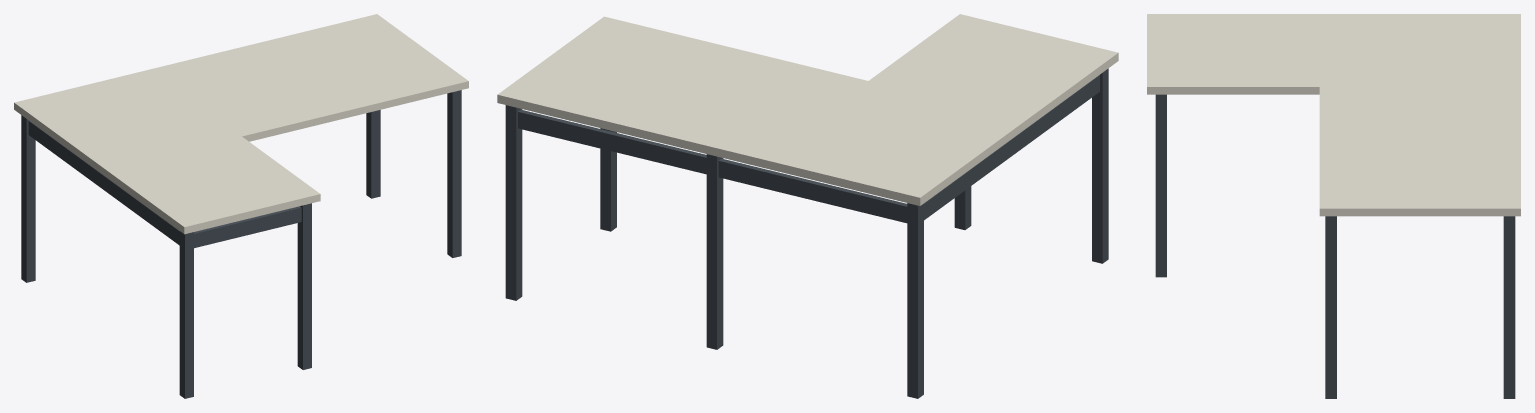
The model's file is GO_Desk_L_01.glb.
3 views of the same model, side by side, from view 1: azimuth 30°, elevation 25°; view 2: azimuth 150°, elevation 25°; view 3: azimuth 270°, elevation 25° (orthographic). The views are drawn at different scales.
Parts seen in each view (by area): view 1: GO_Desk_L_01; view 2: GO_Desk_L_01; view 3: GO_Desk_L_01.
Boxes of the visible parts, box(x1,y1,x2,y2) form: GO_Desk_L_01: box(14, 14, 468, 398); GO_Desk_L_01: box(497, 14, 1118, 398); GO_Desk_L_01: box(1147, 14, 1520, 398).
Size of the model in its own units: 1.6 by 0.74 by 1.3.
1 material, 1 textured.
